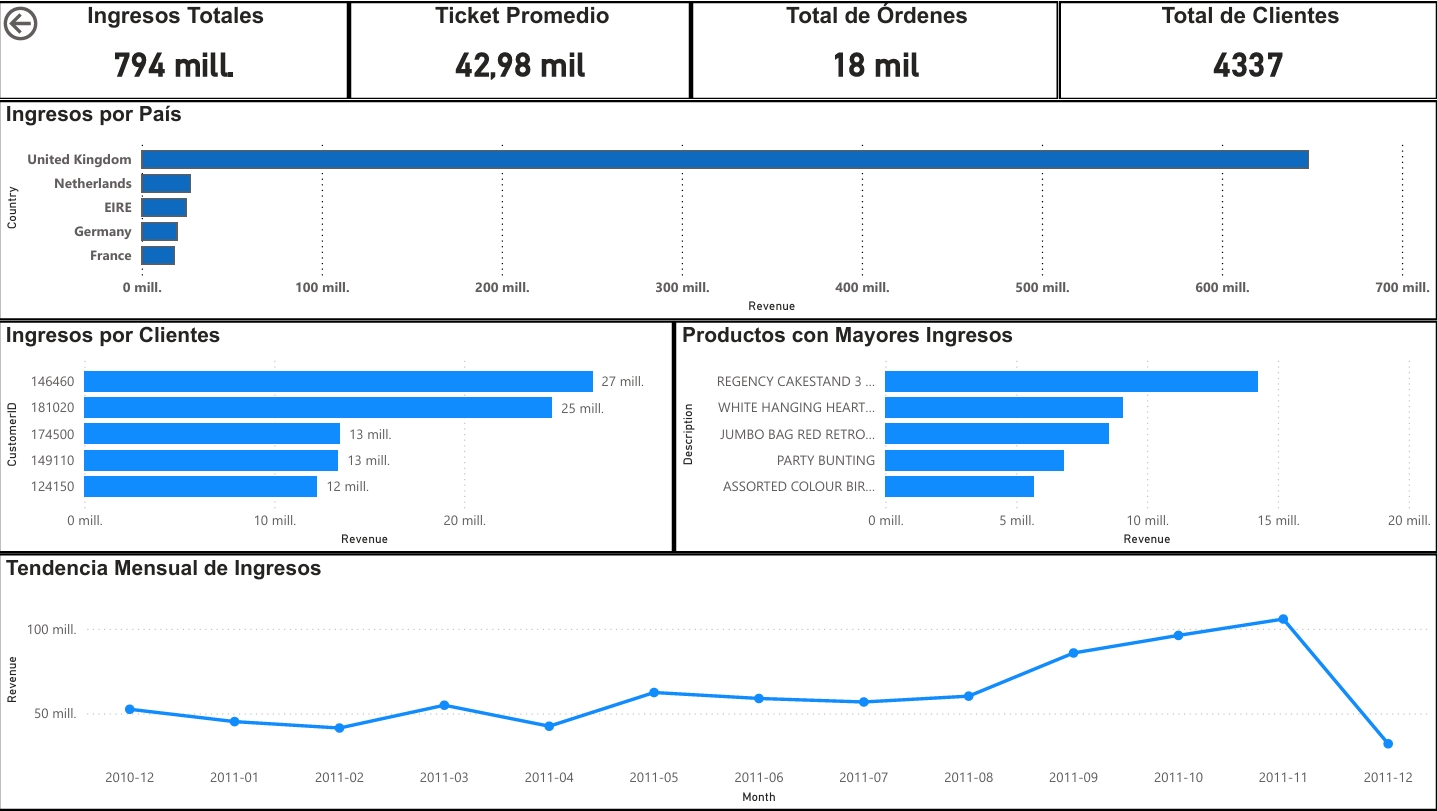

The dashboard page shown, as its layout file describes it:
{"tool":"powerbi","page":{"name":"Página 1","canvas":[1280,720],"ordinal":0},"visuals":[{"type":"card","title":"Total de Órdenes","fields":{"Values":["online_retail_final_v2.Total Orders"]},"box":[616,0,326.7,88],"z":0},{"type":"card","title":"Total de Clientes","fields":{"Values":["online_retail_final_v2.Total Customers"]},"box":[942.7,0,337.3,88],"z":1000},{"type":"card","title":"Ticket Promedio","fields":{"Values":["online_retail_final_v2.Avg Ticket"]},"box":[312,0,304,88],"z":2000},{"type":"card","title":"Ingresos Totales","fields":{"Values":["online_retail_final_v2.Revenue"]},"box":[0,0,312,88],"z":3000},{"type":"clusteredBarChart","title":"Ingresos por País","fields":{"Category":["online_retail_final_v2.Country"],"Y":["online_retail_final_v2.Revenue"]},"box":[0,88,1280,196],"z":4000},{"type":"clusteredBarChart","title":"Productos con Mayores Ingresos","fields":{"Category":["online_retail_final_v2.Description"],"Y":["online_retail_final_v2.Revenue"]},"box":[601.3,284,678.7,206.7],"z":5000},{"type":"clusteredBarChart","title":"Ingresos por Clientes","fields":{"Category":["online_retail_final_v2.CustomerID"],"Y":["online_retail_final_v2.Revenue"]},"box":[0,284,601.3,206.7],"z":6000},{"type":"lineChart","title":"Tendencia Mensual de Ingresos","fields":{"Category":["online_retail_final_v2.Month"],"Y":["online_retail_final_v2.Revenue"]},"box":[0,490.7,1280,229.3],"z":7000},{"type":"actionButton","box":[0,0,100,40],"z":8000}]}

Visuals, with their boxes in screenshot pixels (x1, y1, x2, y2), scaled from the page's 1280x720 canvas onto the 1437x811 screenshot:
"Total de Órdenes" card: pyautogui.locateOnScreen(692, 0, 1058, 99)
"Total de Clientes" card: pyautogui.locateOnScreen(1058, 0, 1436, 99)
"Ticket Promedio" card: pyautogui.locateOnScreen(350, 0, 692, 99)
"Ingresos Totales" card: pyautogui.locateOnScreen(0, 0, 350, 99)
"Ingresos por País" clusteredBarChart: pyautogui.locateOnScreen(0, 99, 1436, 320)
"Productos con Mayores Ingresos" clusteredBarChart: pyautogui.locateOnScreen(675, 320, 1436, 553)
"Ingresos por Clientes" clusteredBarChart: pyautogui.locateOnScreen(0, 320, 675, 553)
"Tendencia Mensual de Ingresos" lineChart: pyautogui.locateOnScreen(0, 553, 1436, 810)
actionButton: pyautogui.locateOnScreen(0, 0, 112, 45)
